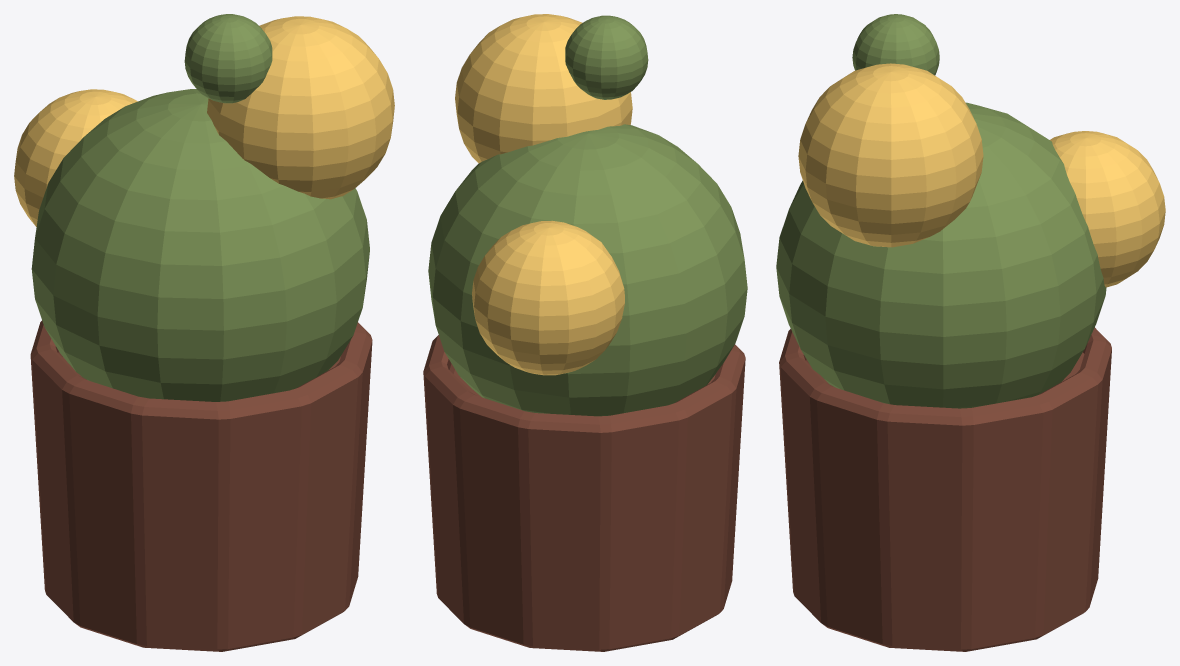
Rendered from Kitchen_Cactus.fbx.
3 renders of one model, left to right at view 1: azimuth 30°, elevation 25°; view 2: azimuth 150°, elevation 25°; view 3: azimuth 270°, elevation 25°, orthographic. The views are drawn at different scales.
Parts seen in each view (by area): view 1: Kitchen_Cactus.001, Kitchen_Cactus.002, Kitchen_Cactus; view 2: Kitchen_Cactus.002, Kitchen_Cactus.001, Kitchen_Cactus; view 3: Kitchen_Cactus.002, Kitchen_Cactus.001, Kitchen_Cactus.
Part boxes in pixels (x1,y1,x2,y2): Kitchen_Cactus.001: [31, 14, 369, 401]; Kitchen_Cactus.002: [30, 320, 372, 651]; Kitchen_Cactus: [14, 16, 394, 226]; Kitchen_Cactus.002: [423, 335, 745, 651]; Kitchen_Cactus.001: [428, 15, 747, 416]; Kitchen_Cactus: [455, 14, 632, 375]; Kitchen_Cactus.002: [779, 327, 1111, 651]; Kitchen_Cactus.001: [776, 14, 1106, 408]; Kitchen_Cactus: [798, 63, 1165, 287].
Size of the model in its own units: 25.9 by 42.01 by 22.7.
